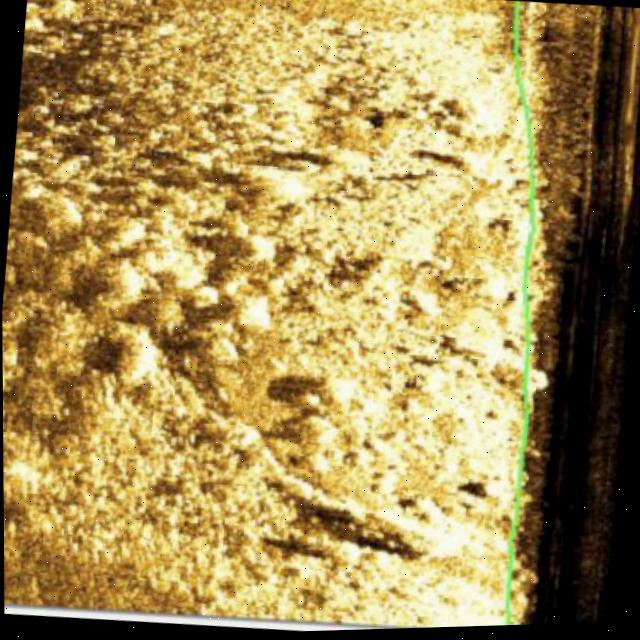bedrock group: (0, 0, 583, 640)
